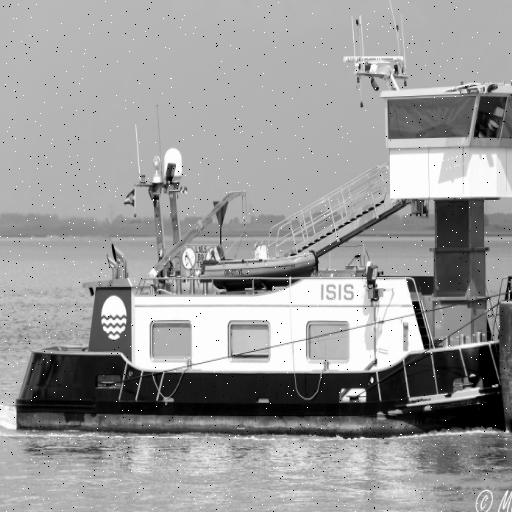tugboat: (12, 51, 512, 446)
